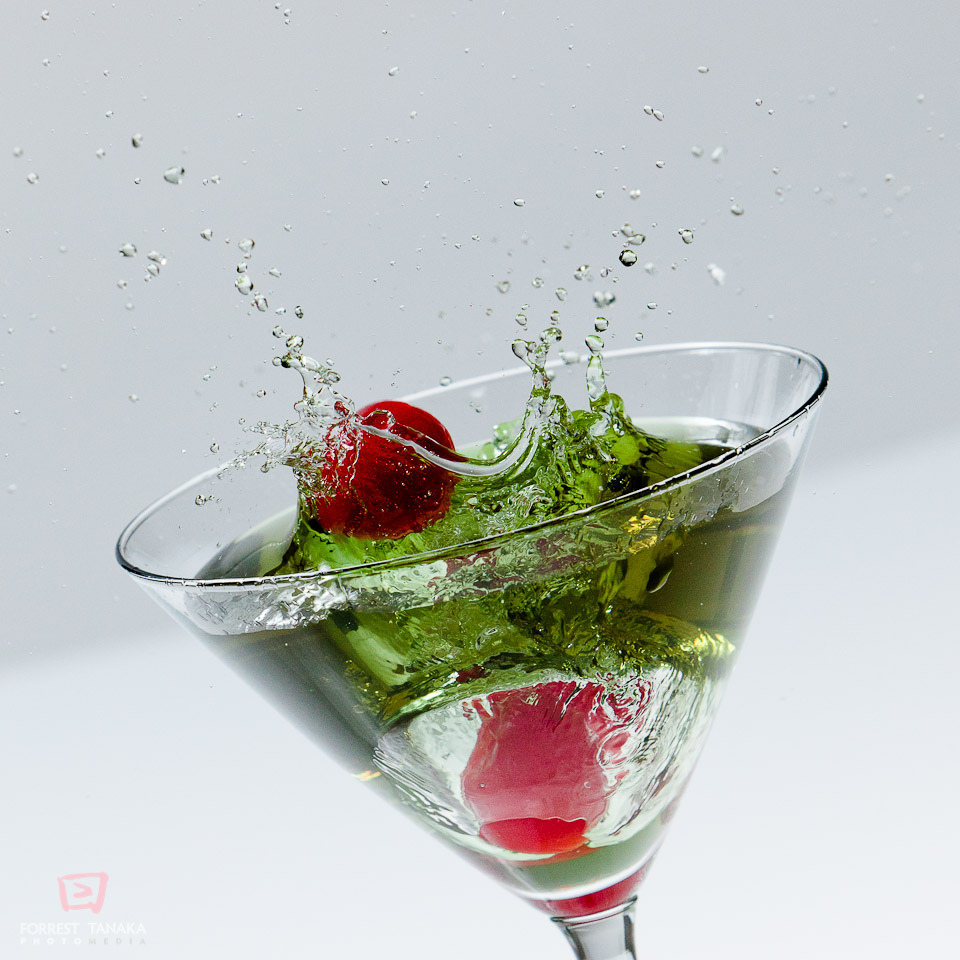glass of water: (101, 388, 888, 960)
